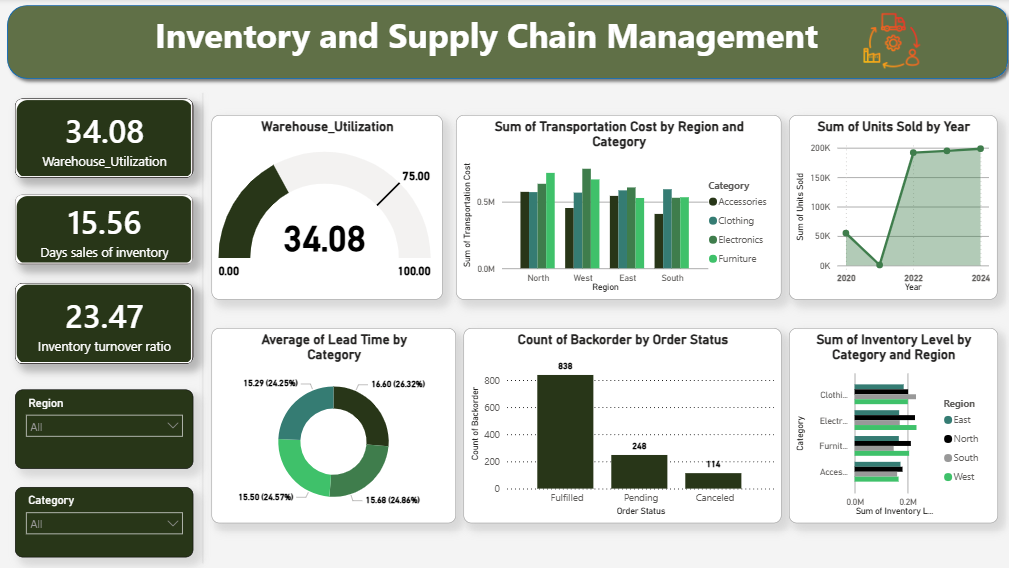

The page's visual inventory and layout, read from the dashboard file:
{"tool":"powerbi","page":{"name":"Page 1","canvas":[1280,720],"ordinal":0},"visuals":[{"type":"shape","box":[0,0,1280.4,110.7],"z":0},{"type":"textbox","box":[102.2,10.9,1021.7,84.8],"z":1000},{"type":"image","box":[1087,17.4,73.9,73.9],"z":2000},{"type":"shape","box":[245.7,110.9,19.6,608.7],"z":3000},{"type":"cardVisual","fields":{"Data":["Inventory and SupplyChain.Warehouse_Utilization"]},"box":[18.9,126.6,224.9,100.2],"z":4000},{"type":"cardVisual","fields":{"Data":["Inventory and SupplyChain.Days sales of inventory"]},"box":[18.9,247.6,224.9,88.8],"z":5000},{"type":"cardVisual","fields":{"Data":["Inventory and SupplyChain.Inventory turnover ratio"]},"box":[18.9,359.1,224.9,102],"z":6000},{"type":"slicer","fields":{"Values":["Inventory and SupplyChain.Region"]},"box":[18.9,493.2,224.9,100.2],"z":6001},{"type":"slicer","fields":{"Values":["Inventory and SupplyChain.Category"]},"box":[18.9,616.1,224.9,88.8],"z":6002},{"type":"gauge","fields":{"Y":["Inventory and SupplyChain.Warehouse_Utilization"]},"box":[266.5,147.4,291,232.4],"z":6003},{"type":"clusteredColumnChart","fields":{"Y":["Sum(Inventory and SupplyChain.Transportation Cost)"],"Category":["Inventory and SupplyChain.Region"],"Series":["Inventory and SupplyChain.Category"]},"box":[574.5,147.4,410.1,232.4],"z":6004},{"type":"lineChart","fields":{"Y":["Sum(Inventory and SupplyChain.Units Sold)"],"Category":["Inventory and SupplyChain.Date.Variation.Date Hierarchy.Year"]},"box":[994,147.4,262.7,232.4],"z":6005},{"type":"donutChart","fields":{"Y":["Avg(Inventory and SupplyChain.Lead Time)"],"Category":["Inventory and SupplyChain.Category"]},"box":[266.5,415.8,308,245.7],"z":6006},{"type":"columnChart","fields":{"Y":["CountNonNull(Inventory and SupplyChain.Backorder)"],"Category":["Inventory and SupplyChain.Order Status"]},"box":[583.9,415.8,400.6,245.7],"z":6007},{"type":"clusteredBarChart","fields":{"Category":["Inventory and SupplyChain.Category"],"Y":["Sum(Inventory and SupplyChain.Inventory Level)"],"Series":["Inventory and SupplyChain.Region"]},"box":[994,416,263,246],"z":6008}]}

Visuals, with their boxes in screenshot pixels (x1, y1, x2, y2), scaled from the page's 1280x720 canvas onto the 1009x568 screenshot:
shape: select_region(0, 0, 1008, 87)
textbox: select_region(81, 9, 886, 75)
image: select_region(857, 14, 915, 72)
shape: select_region(194, 87, 209, 567)
cardVisual - Inventory and SupplyChain.Warehouse_Utilization: select_region(15, 100, 192, 179)
cardVisual - Inventory and SupplyChain.Days sales of inventory: select_region(15, 195, 192, 265)
cardVisual - Inventory and SupplyChain.Inventory turnover ratio: select_region(15, 283, 192, 364)
slicer - Inventory and SupplyChain.Region: select_region(15, 389, 192, 468)
slicer - Inventory and SupplyChain.Category: select_region(15, 486, 192, 556)
gauge - Inventory and SupplyChain.Warehouse_Utilization: select_region(210, 116, 439, 300)
clusteredColumnChart - Sum(Inventory and SupplyChain.Transportation Cost) x Inventory and SupplyChain.Region: select_region(453, 116, 776, 300)
lineChart - Sum(Inventory and SupplyChain.Units Sold) x Inventory and SupplyChain.Date.Variation.Date Hierarchy.Year: select_region(784, 116, 991, 300)
donutChart - Avg(Inventory and SupplyChain.Lead Time) x Inventory and SupplyChain.Category: select_region(210, 328, 453, 522)
columnChart - CountNonNull(Inventory and SupplyChain.Backorder) x Inventory and SupplyChain.Order Status: select_region(460, 328, 776, 522)
clusteredBarChart - Inventory and SupplyChain.Category x Sum(Inventory and SupplyChain.Inventory Level): select_region(784, 328, 991, 522)
